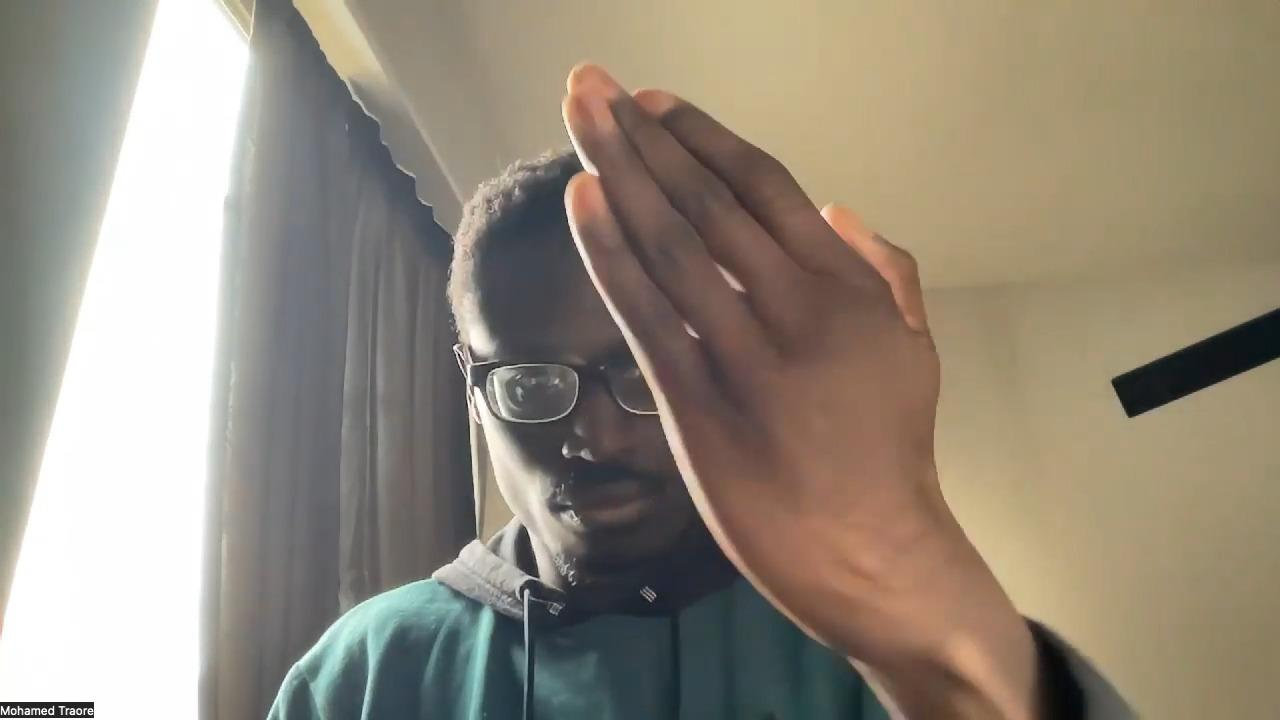Paper: (560, 67, 972, 630)
